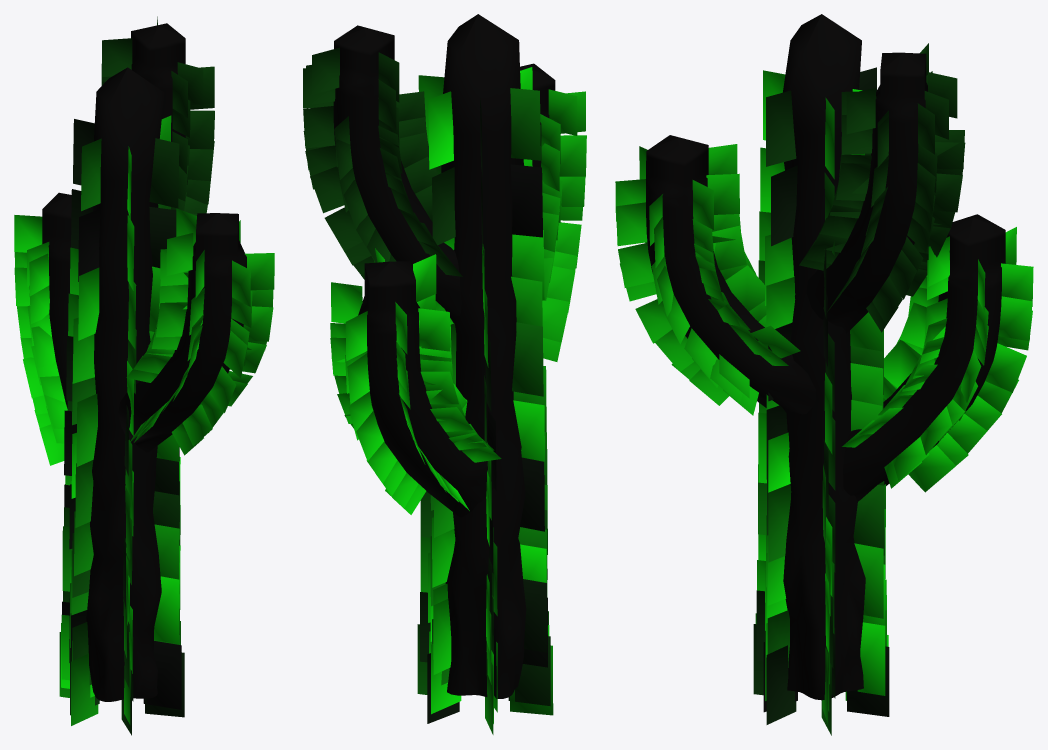
File: Cactus_1_5.fbx
The picture shows the model from 3 angles, left to right: view 1: azimuth 30°, elevation 25°; view 2: azimuth 150°, elevation 25°; view 3: azimuth 270°, elevation 25°; orthographic projection. The views are drawn at different scales.
Visible parts, largest first — view 1: Cactus_1_5; view 2: Cactus_1_5; view 3: Cactus_1_5.
Boxes of the visible parts, box(x1,y1,x2,y2) form: Cactus_1_5: box(14, 16, 274, 735); Cactus_1_5: box(303, 14, 586, 734); Cactus_1_5: box(615, 14, 1033, 735).
Bounding box in the file's own units: 99.56 × 346 × 189.
